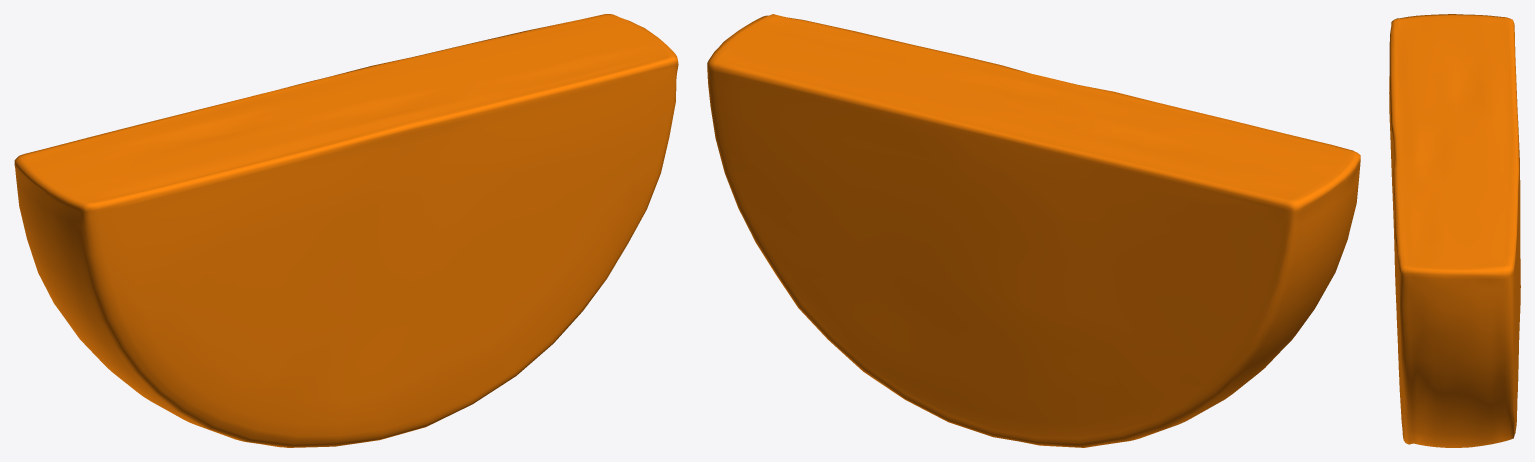
The picture shows the model from 3 angles, left to right: view 1: azimuth 30°, elevation 25°; view 2: azimuth 150°, elevation 25°; view 3: azimuth 270°, elevation 25°; orthographic projection. The views are drawn at different scales.
Bounding box in the file's own units: 1 × 0.4996 × 0.2157.
